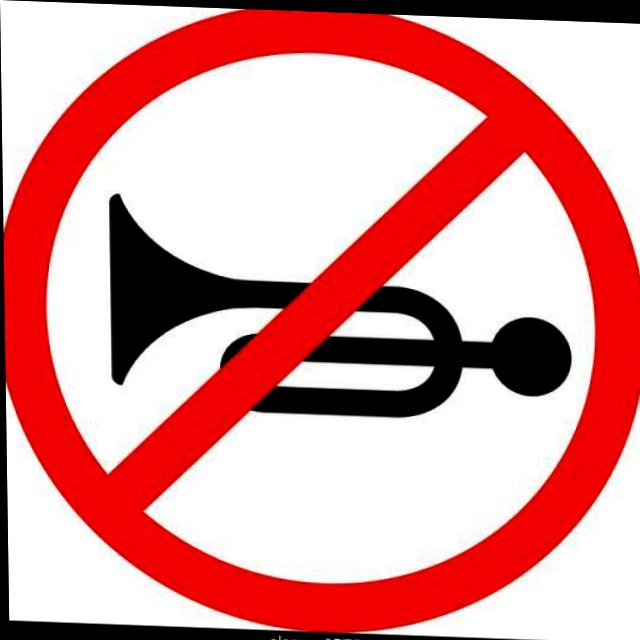HORN_PROHIBITED: (0, 0, 640, 637)
